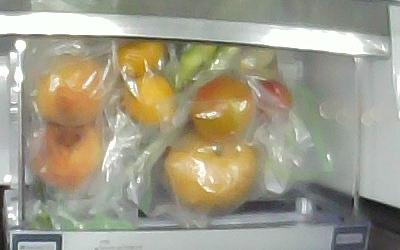peach_vinyl: (37, 58, 106, 125), (33, 121, 102, 185)
pear_vinyl: (165, 127, 256, 214)
tangerine_vinyl: (127, 74, 175, 125), (111, 40, 166, 76)
tomato_vinyl: (188, 76, 253, 137)
